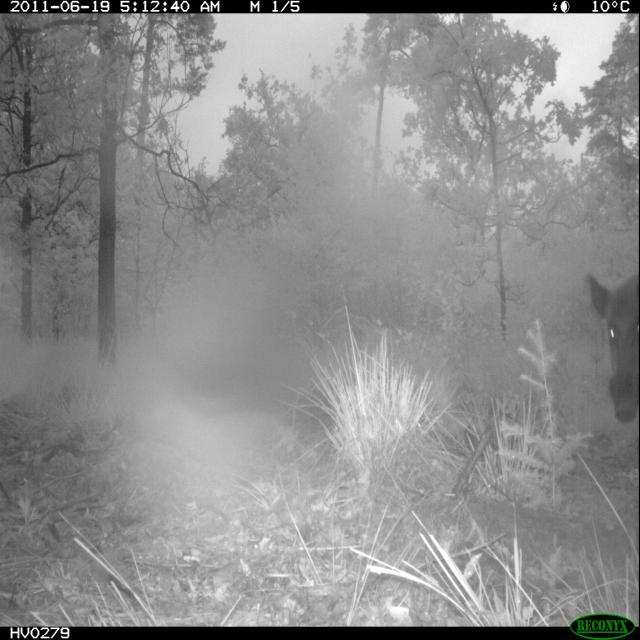boar: (570, 246, 640, 448)
